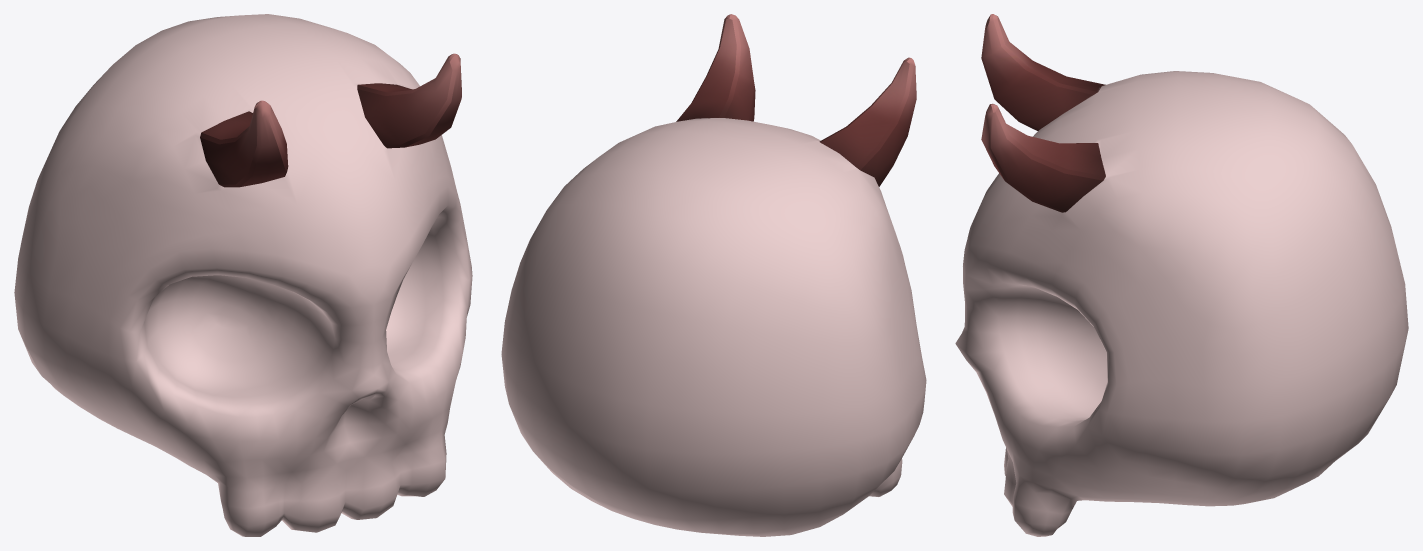
File: carmen.fbx
The picture shows the model from 3 angles, left to right: view 1: azimuth 30°, elevation 25°; view 2: azimuth 150°, elevation 25°; view 3: azimuth 270°, elevation 25°; orthographic projection. The views are drawn at different scales.
Parts seen in each view (by area): view 1: carmen; view 2: carmen; view 3: carmen.
Part boxes in pixels (left/top/right/bottom): carmen: left=14, top=14, right=472, bottom=536; carmen: left=501, top=14, right=926, bottom=536; carmen: left=955, top=14, right=1408, bottom=536.
Bounding box in the file's own units: 668 × 718 × 669.
1 material, 1 textured.
